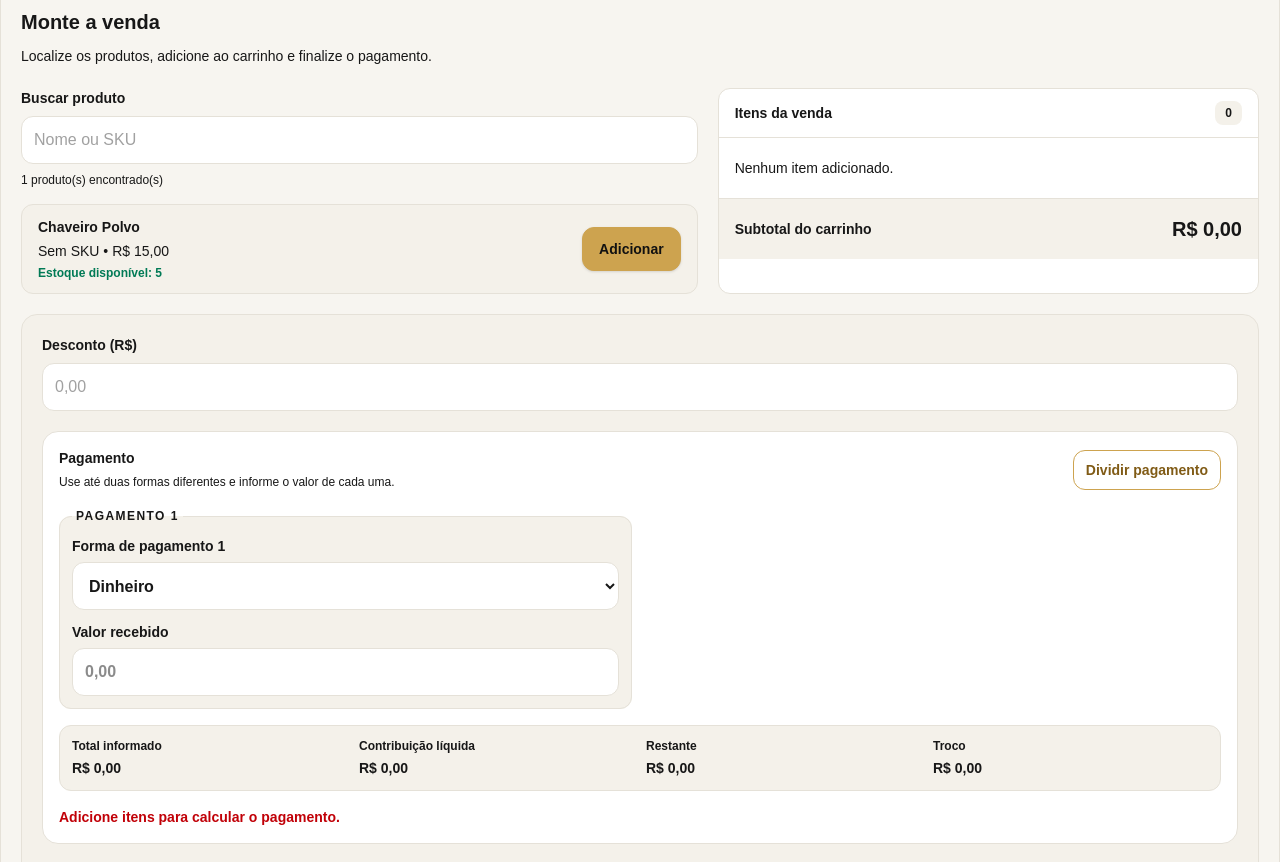
PdvCart › recalculates total and cash difference when cart quantities change
Step 1. Click the button "Adicionar" → (631, 249), box 582,227 -> 681,271
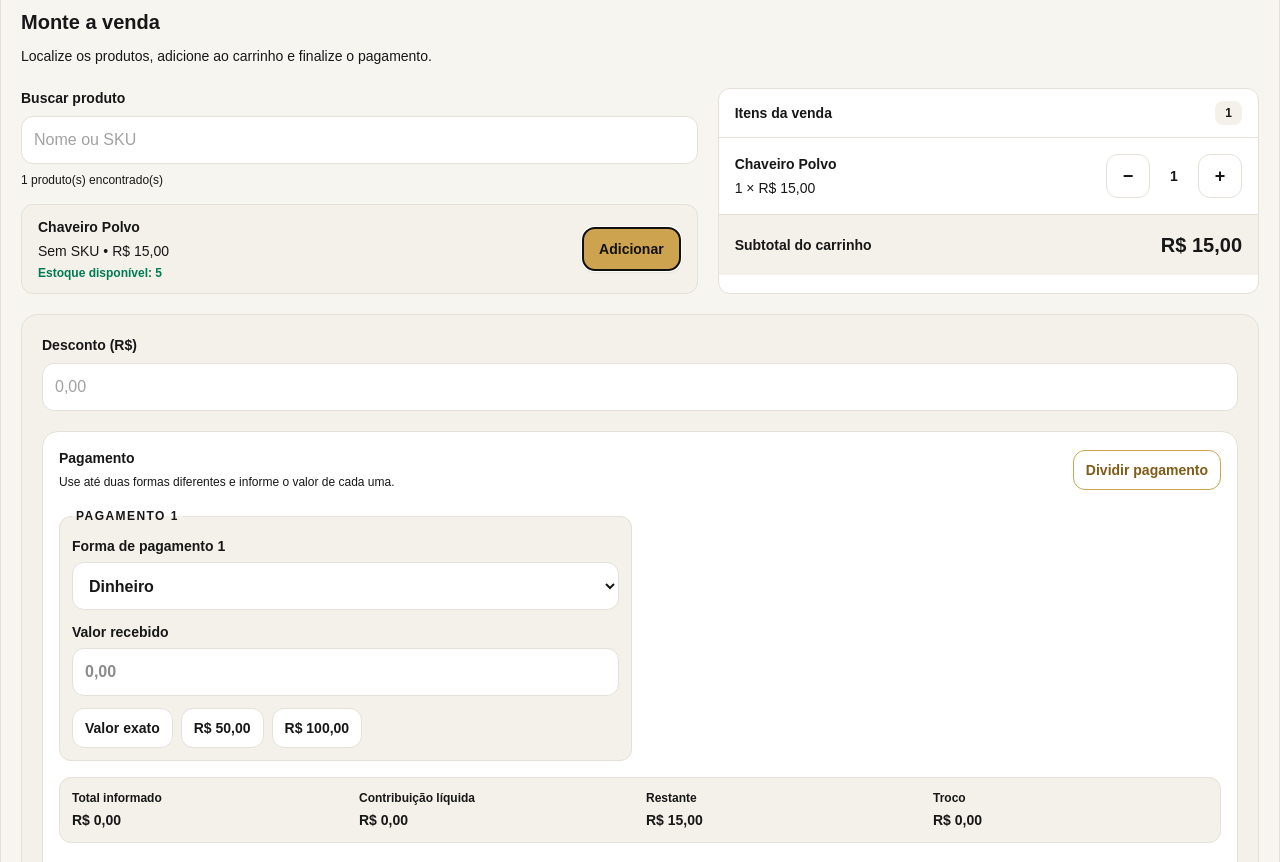
Step 2. Type "5,00" into the field labelled "Desconto (R$)" → (640, 387), box 42,363 -> 1238,411
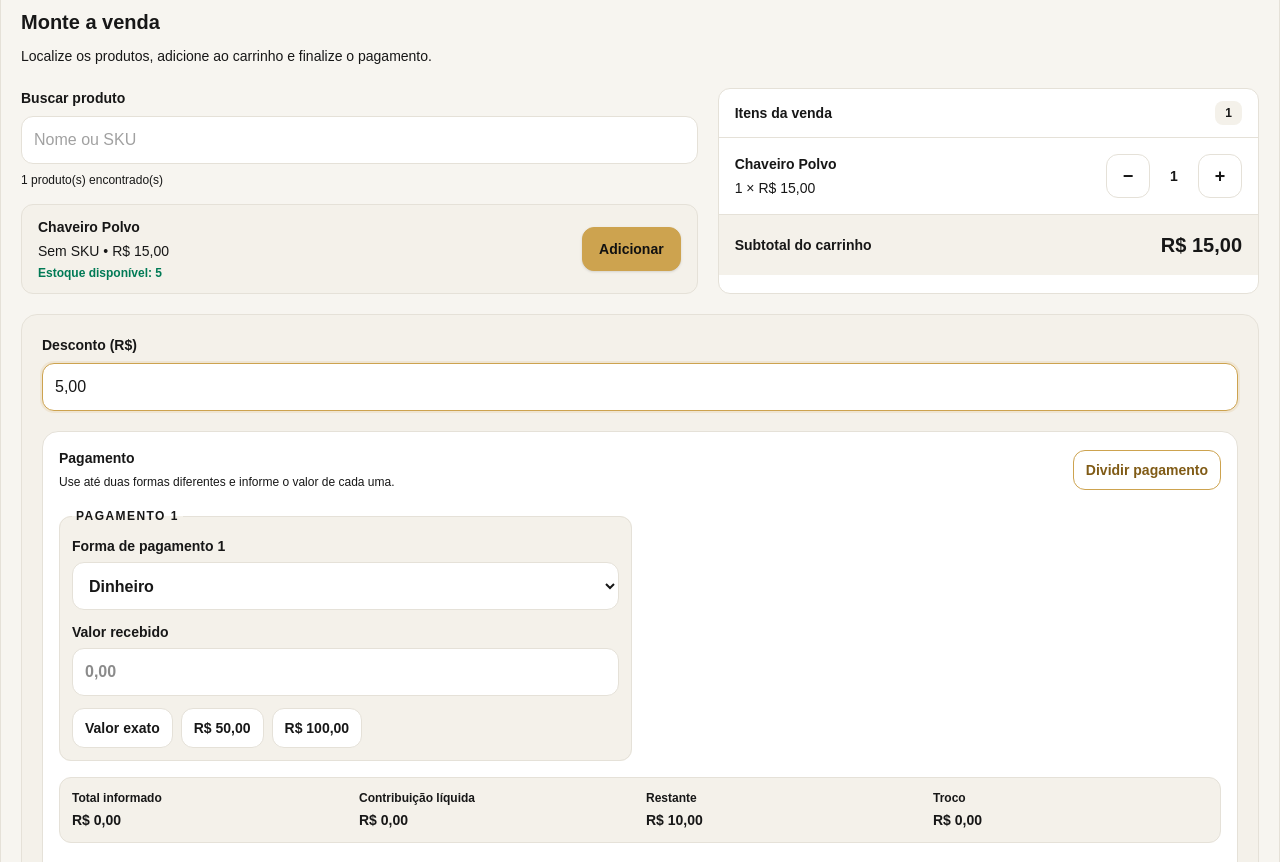
Step 3. Type "20,00" into the field labelled "Valor recebido" → (346, 672), box 72,648 -> 619,696
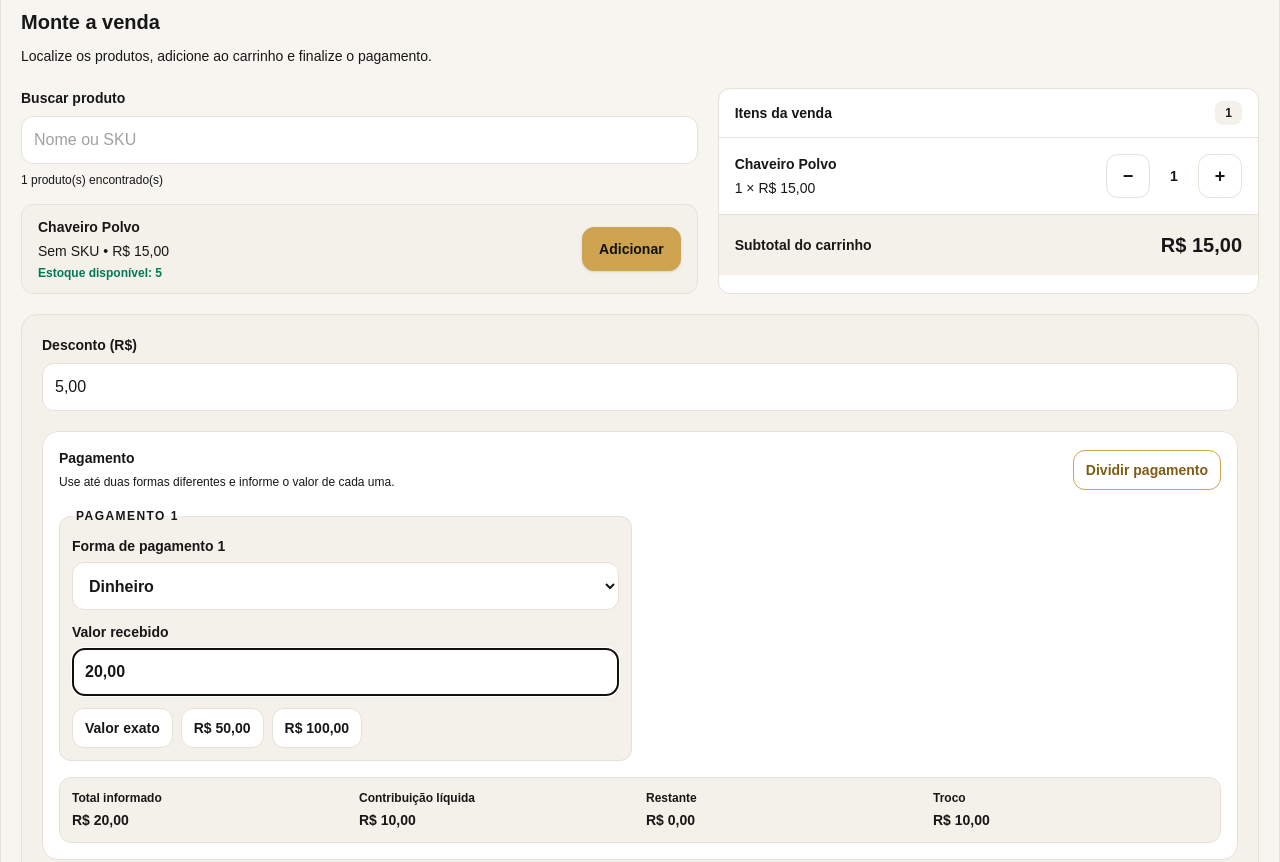
Step 4. Click the button named "Adicionar uma unidade de Chaveiro Polvo" → (1220, 176), box 1198,154 -> 1242,198
(page scrolled)
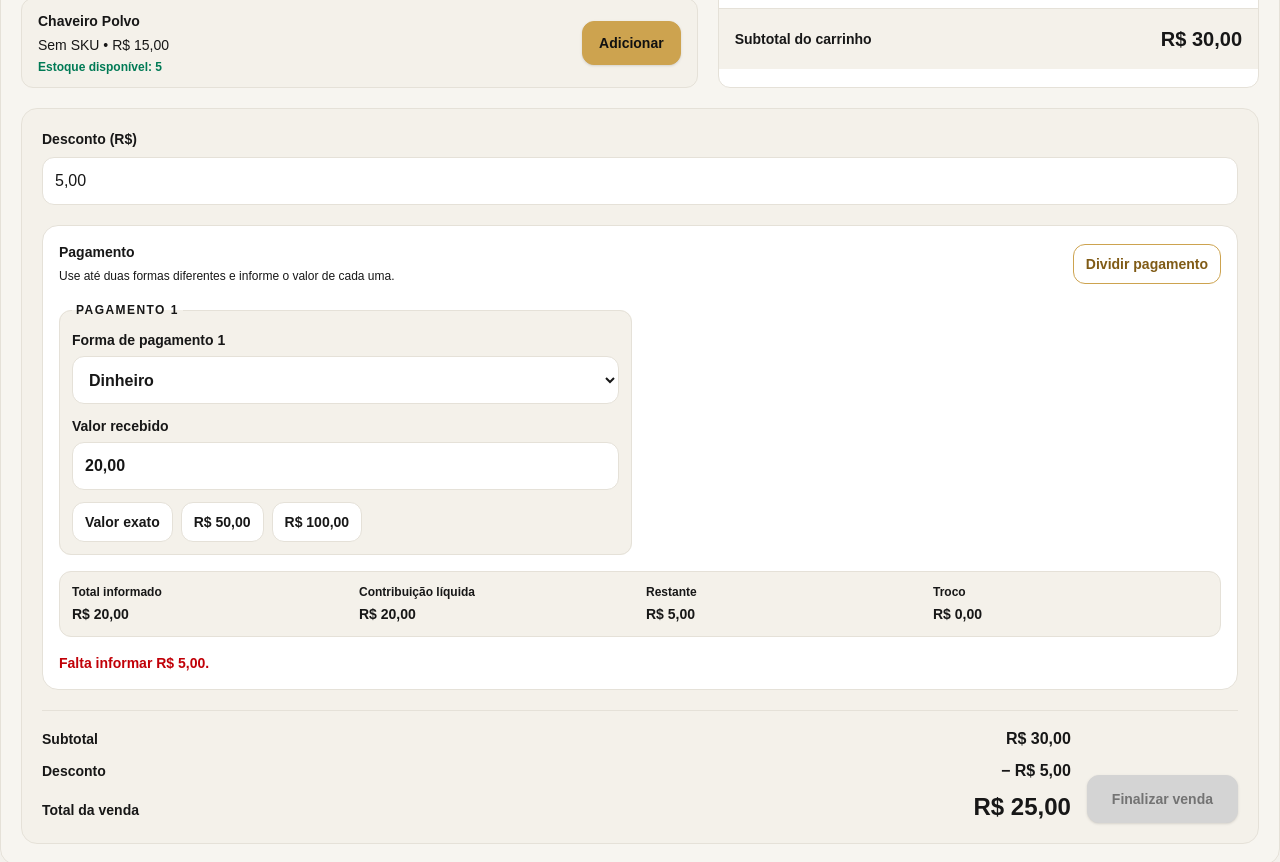
Result: the message reads "Falta informar R$ 5,00." at 59,655 -> 209,671
